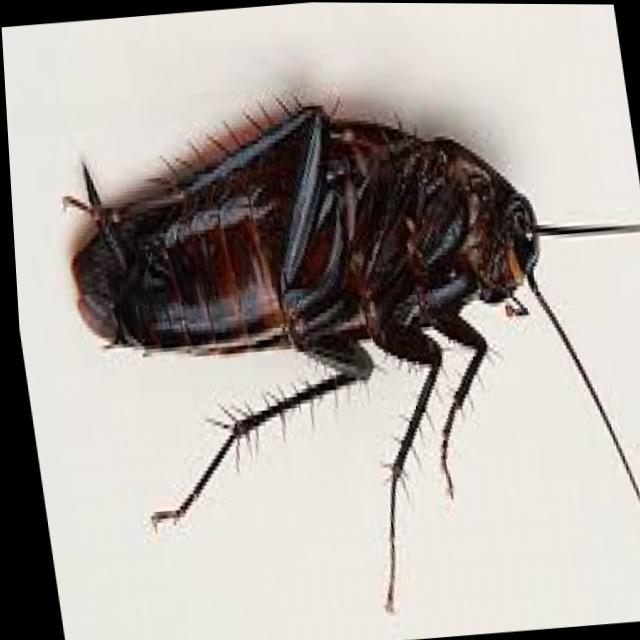Cockroach: (28, 52, 640, 640)
